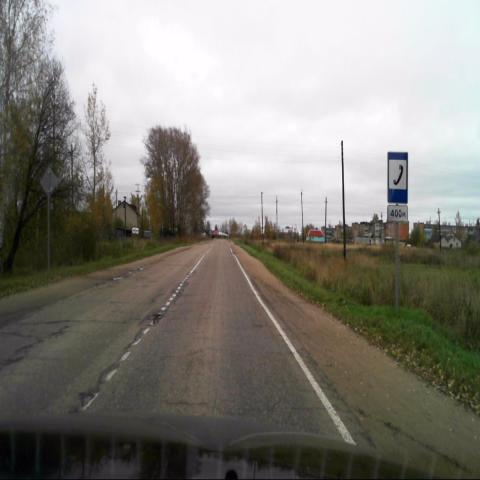7_6: (388, 152, 408, 203)
8_1_1: (387, 204, 408, 222)
